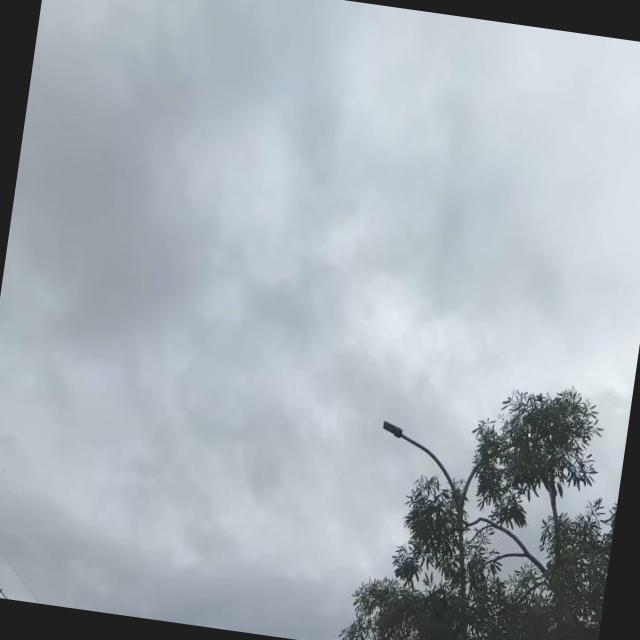nimbostratus: (0, 0, 404, 624), (379, 34, 640, 378)
